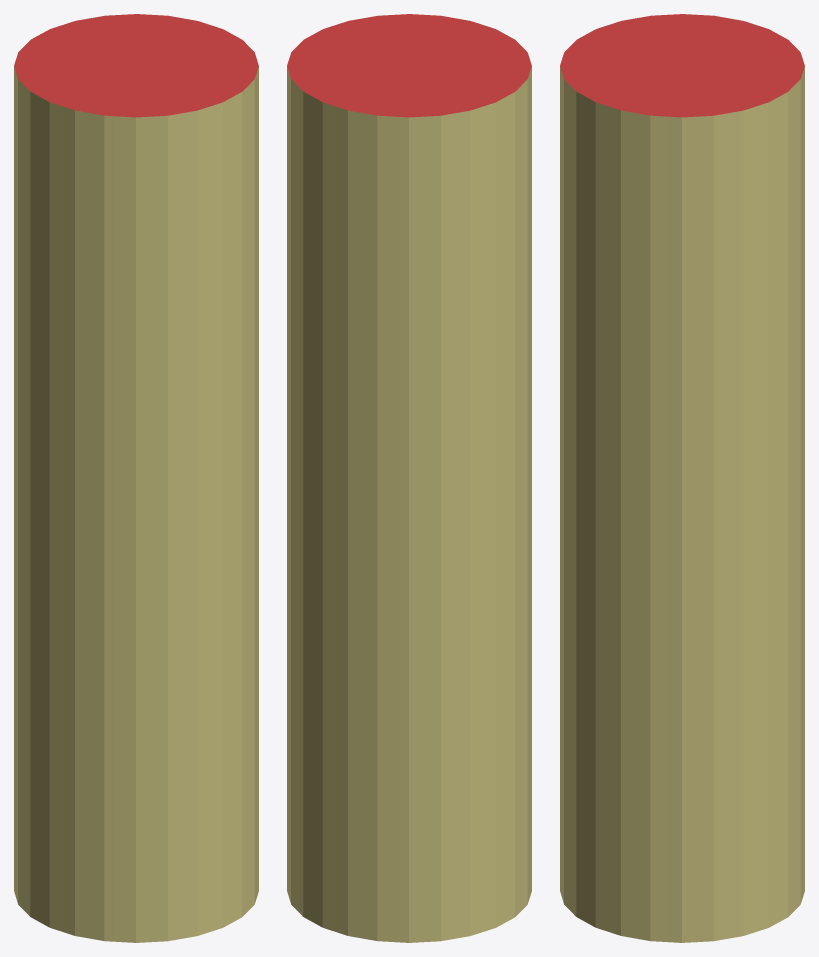
3 views of the same model, side by side, from view 1: azimuth 30°, elevation 25°; view 2: azimuth 150°, elevation 25°; view 3: azimuth 270°, elevation 25° (orthographic).
Bounding box in the file's own units: 2.58 × 2.58 × 9.6.
